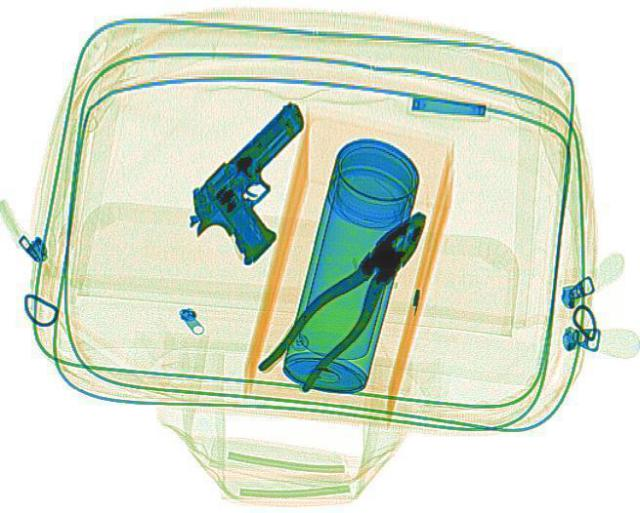Gun: (162, 98, 370, 263)
Pliers: (251, 198, 449, 395)
